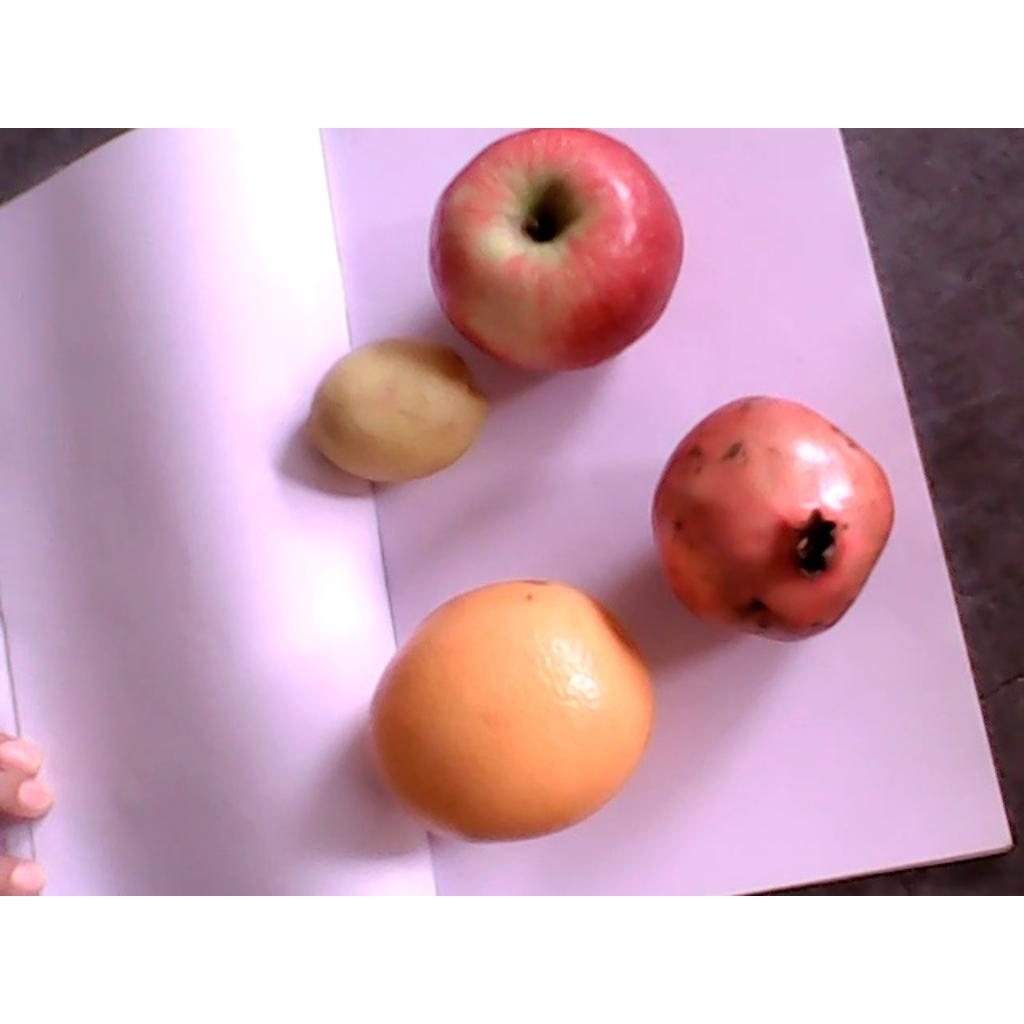apple: (428, 129, 683, 372)
lemon: (303, 335, 489, 483)
orange: (366, 579, 656, 846)
pomegranate: (651, 396, 895, 644)
